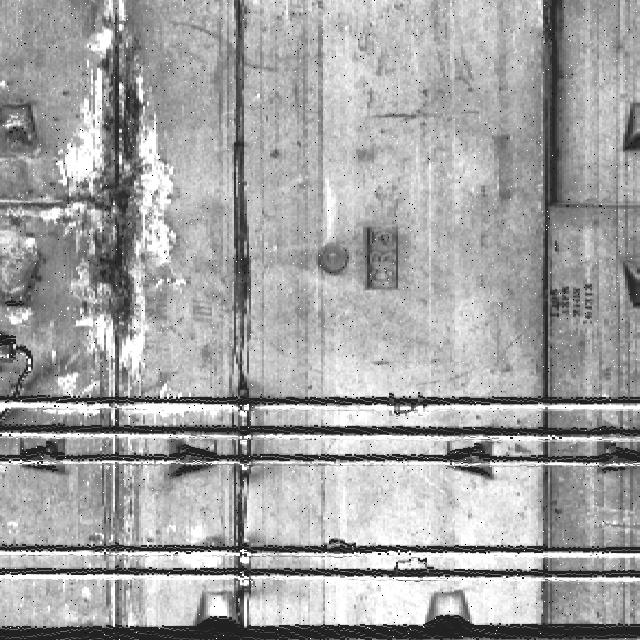leakage: (44, 0, 181, 385), (222, 4, 260, 639)
